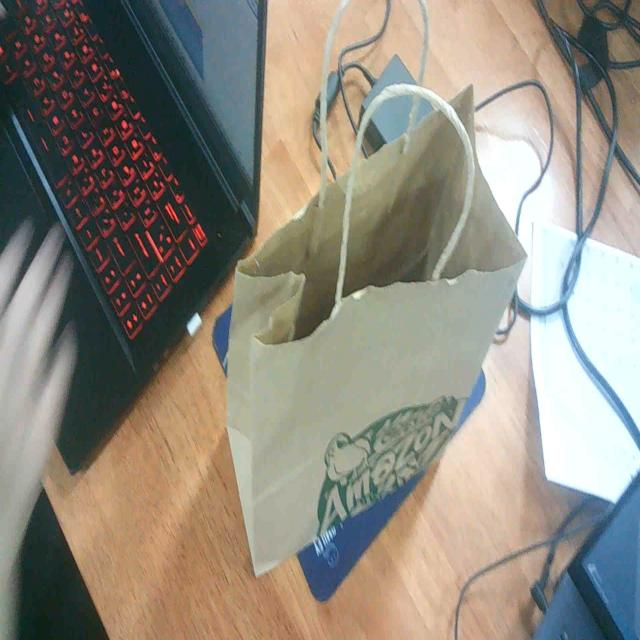bag: (233, 90, 520, 615)
